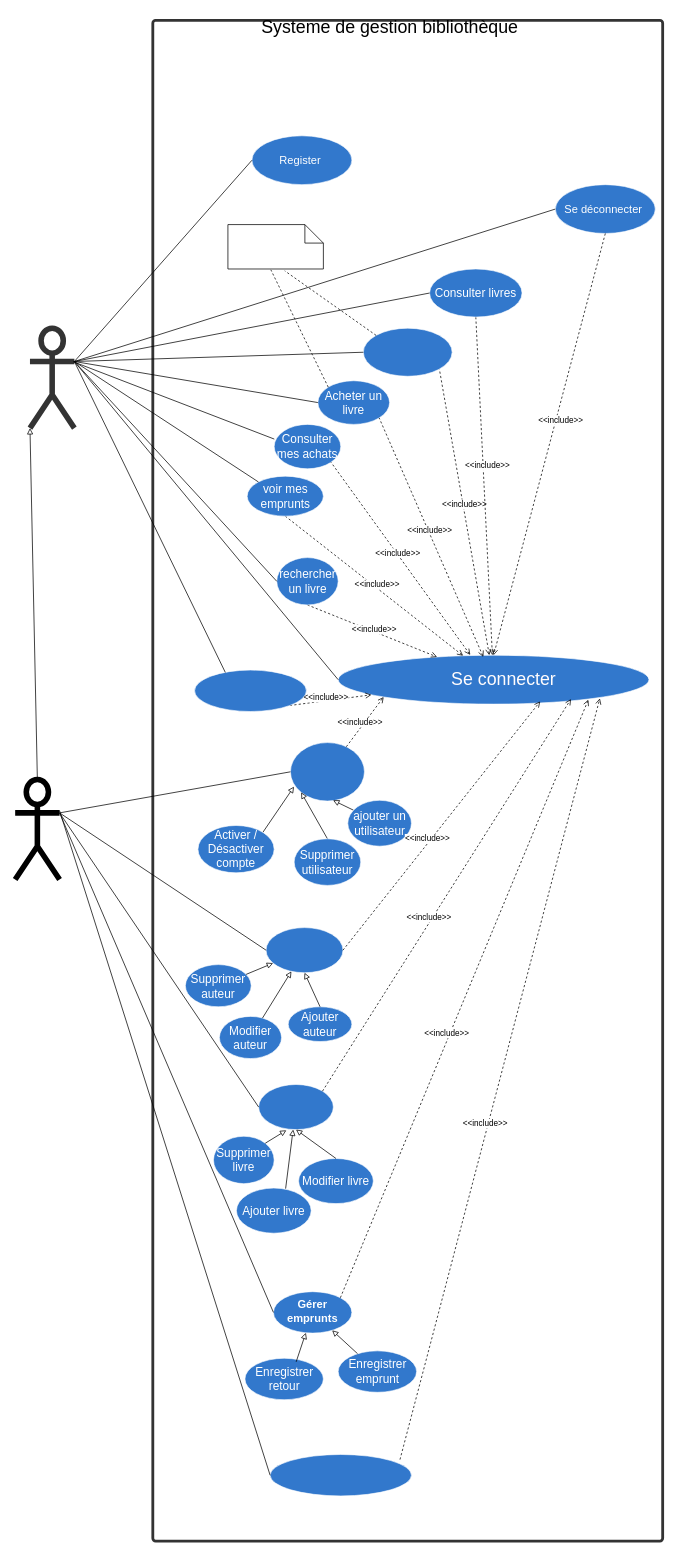
Image size: 677x1555. Some labels were removed from this diagram. The shapes that lost their labels are listed below. From the top down, each one's box as (x1, y1, x2, y2) in pixels, then its label:
(227, 224, 323, 269): condition : {si le livre est disponible }
(363, 328, 452, 376): emprunter livre
(27, 325, 77, 431): user
(194, 669, 306, 711): S'abonner
(290, 742, 364, 801): Gérer utilisateurs
(12, 776, 62, 882): admin
(265, 927, 343, 973): Gérer auteurs
(258, 1084, 333, 1130): Gérer livres
(269, 1454, 411, 1496): voir les abonement
